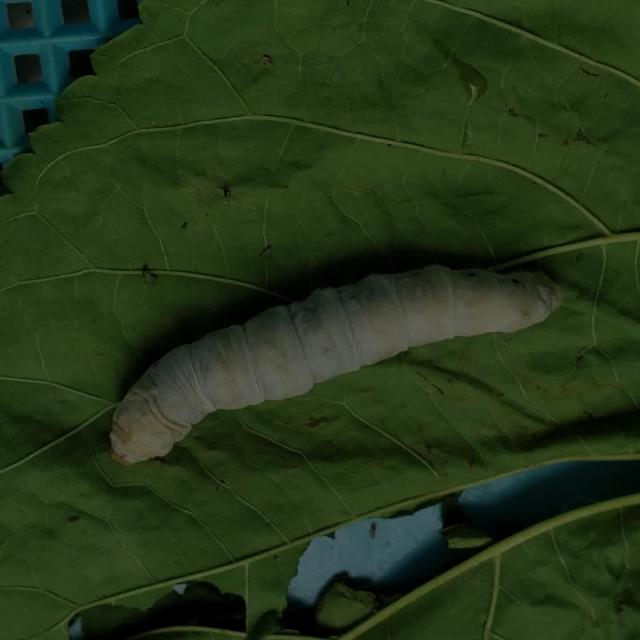Grasserie: (92, 242, 576, 470)
